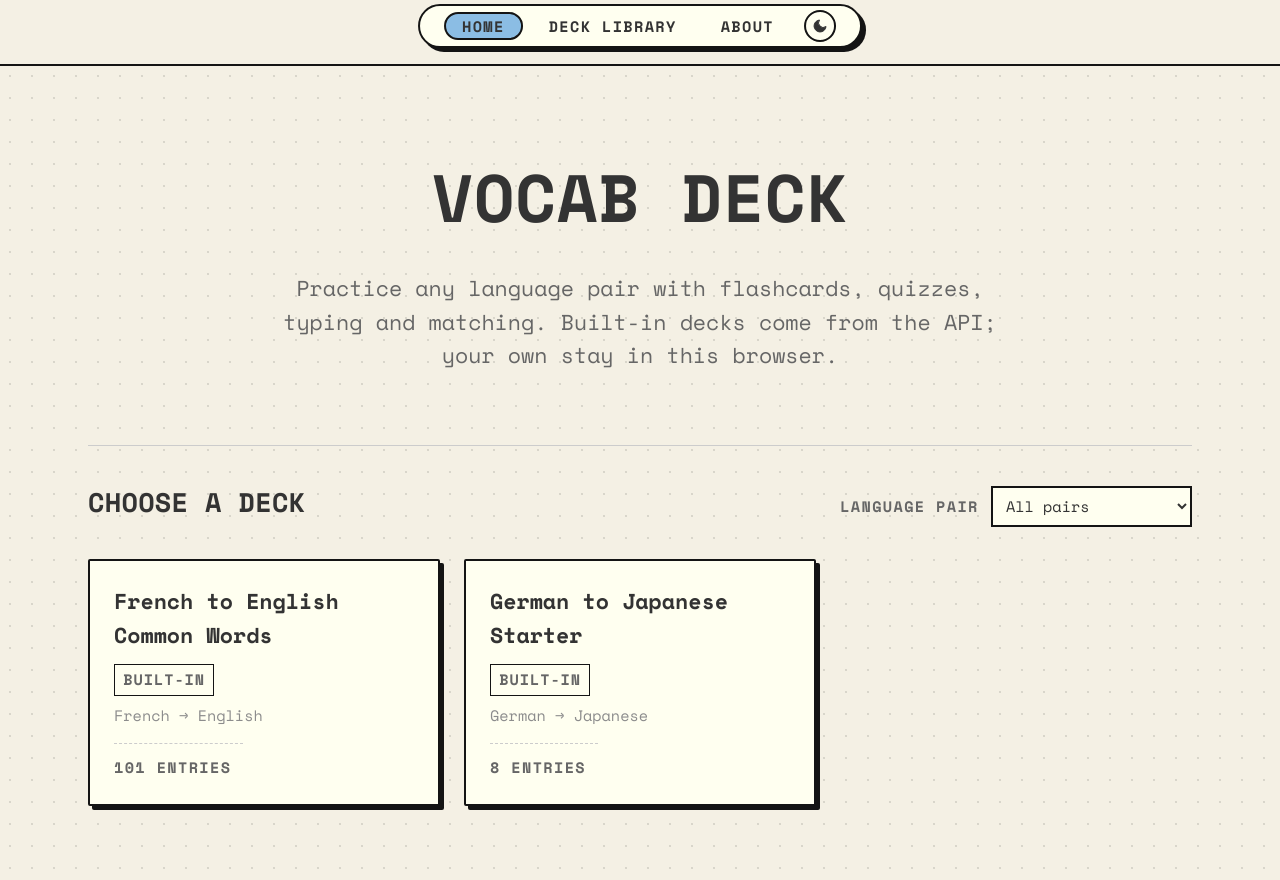
Scenario: about page explains the product
The image size is (1280, 880).
Click the link "About".
click(747, 26)  # box [721,15,774,37]
(page scrolled)
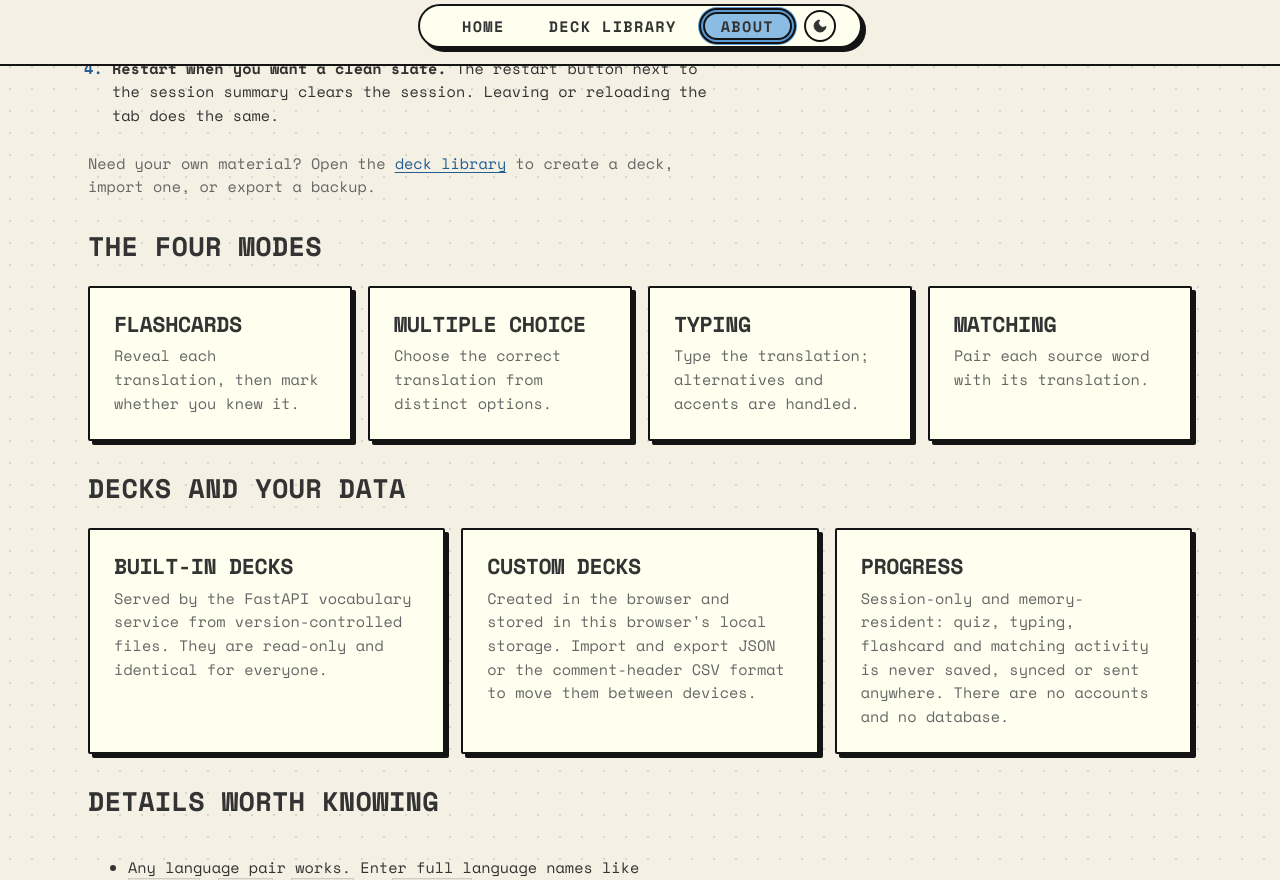
expect the heading "The four modes" is shown: met, box [88,226,322,266]
expect the heading "Decks and your data" is shown: met, box [88,468,406,508]
